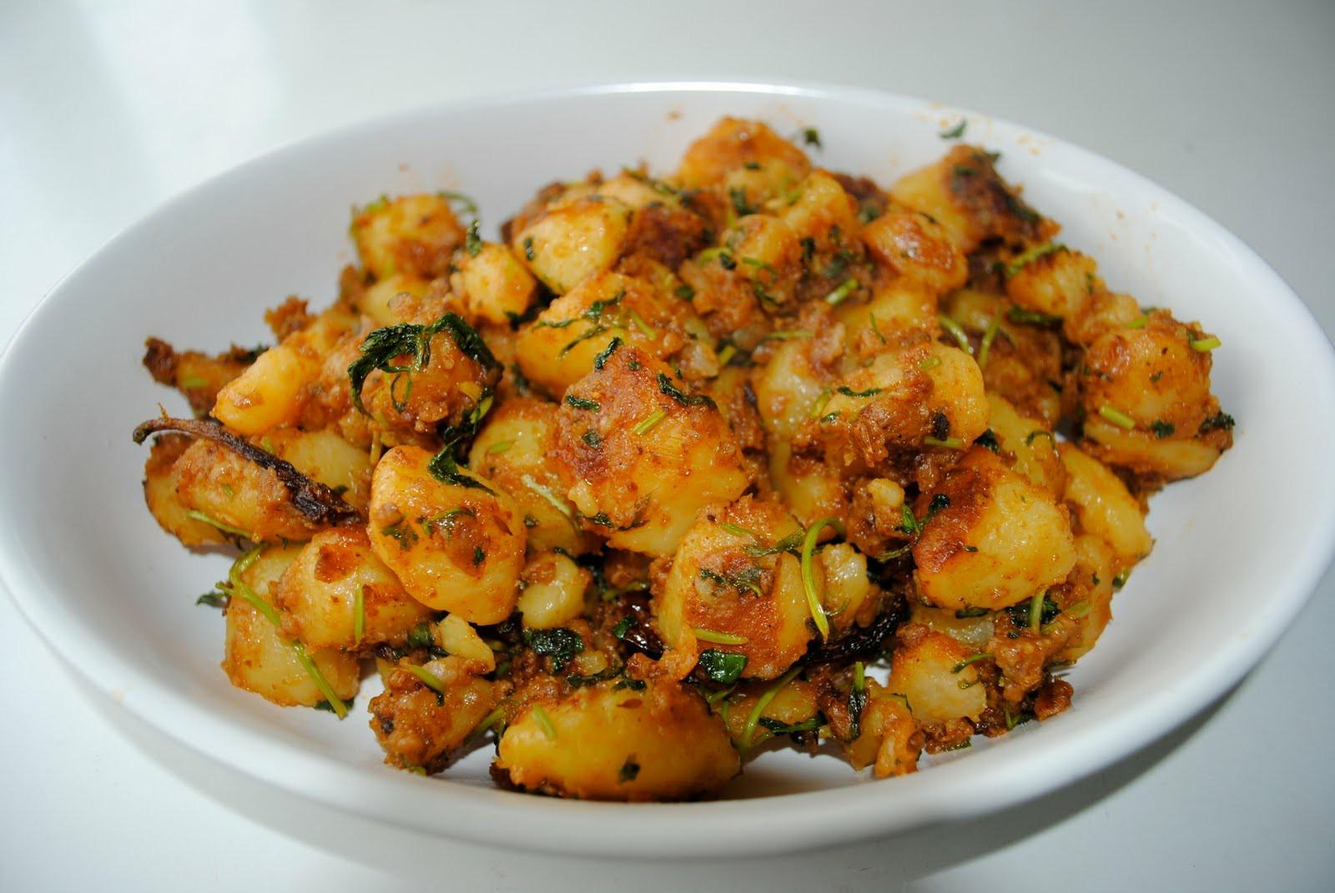AlooMasala: (133, 115, 1235, 806)
